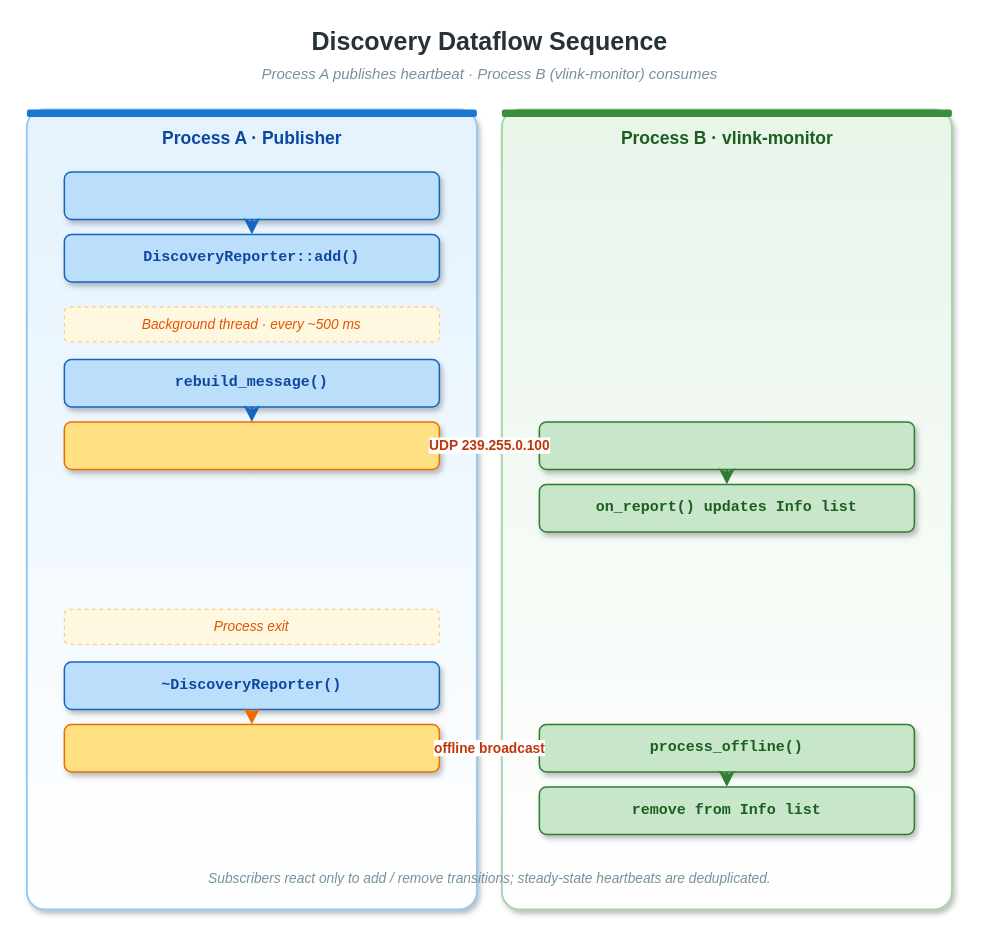
This 983x940 diagram has some shape labels left out. Each missing label, with the centre of its shape:
"NodeImpl::init_ext()" belongs at point (252, 197).
"recv() on UDP socket" belongs at point (727, 447).
"send_offline()" belongs at point (252, 749).
"send_report()" belongs at point (252, 447).
